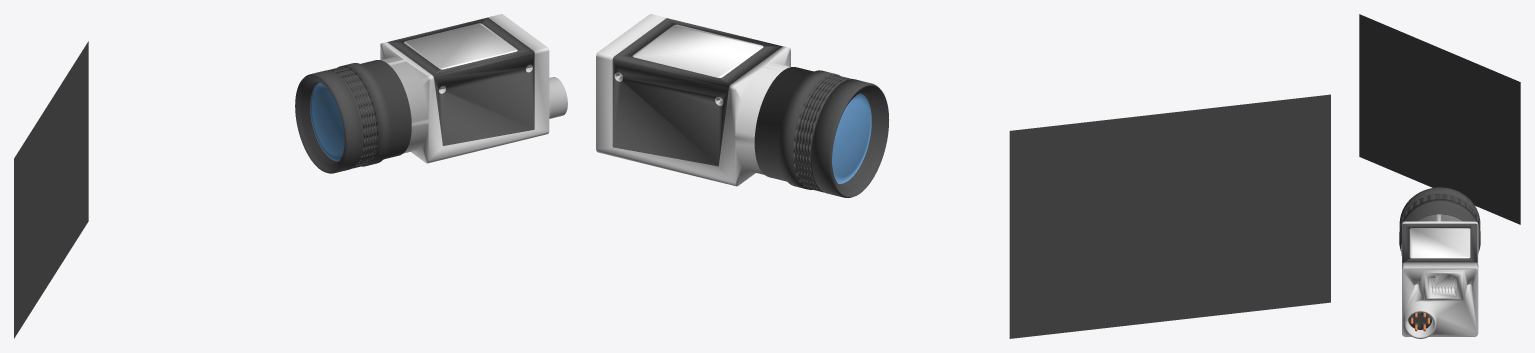
Rendered from ares_ea_screen_station.glb.
3 views of the same model, side by side, from view 1: azimuth 30°, elevation 25°; view 2: azimuth 150°, elevation 25°; view 3: azimuth 270°, elevation 25° (orthographic). The views are drawn at different scales.
Parts seen in each view (by area): view 1: Screen; view 2: Screen; view 3: Screen.
Boxes of the visible parts, <box> form: Screen: <box>14,14,567,338</box>; Screen: <box>596,14,1330,338</box>; Screen: <box>1359,14,1520,338</box>.
Size of the model in its own units: 3.73 by 1.1 by 1.13.
